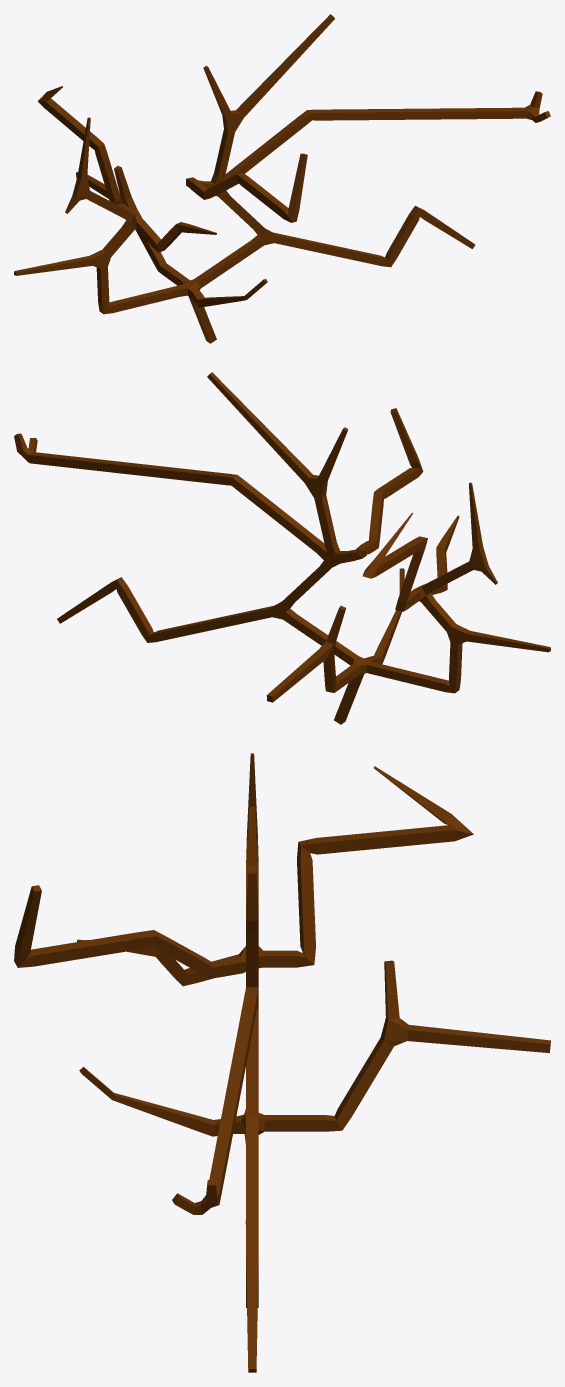
Rendered from krzakpustynia.fbx.
The picture shows the model from 3 angles, top to bottom: view 1: azimuth 30°, elevation 25°; view 2: azimuth 150°, elevation 25°; view 3: azimuth 270°, elevation 25°; orthographic projection. The views are drawn at different scales.
Parts seen in each view (by area): view 1: Cube; view 2: Cube; view 3: Cube.
Boxes of the visible parts, <box> form: Cube: <box>14,14,550,343</box>; Cube: <box>14,372,550,724</box>; Cube: <box>14,753,550,1372</box>.
Size of the model in its own units: 1101 by 609 by 662.
